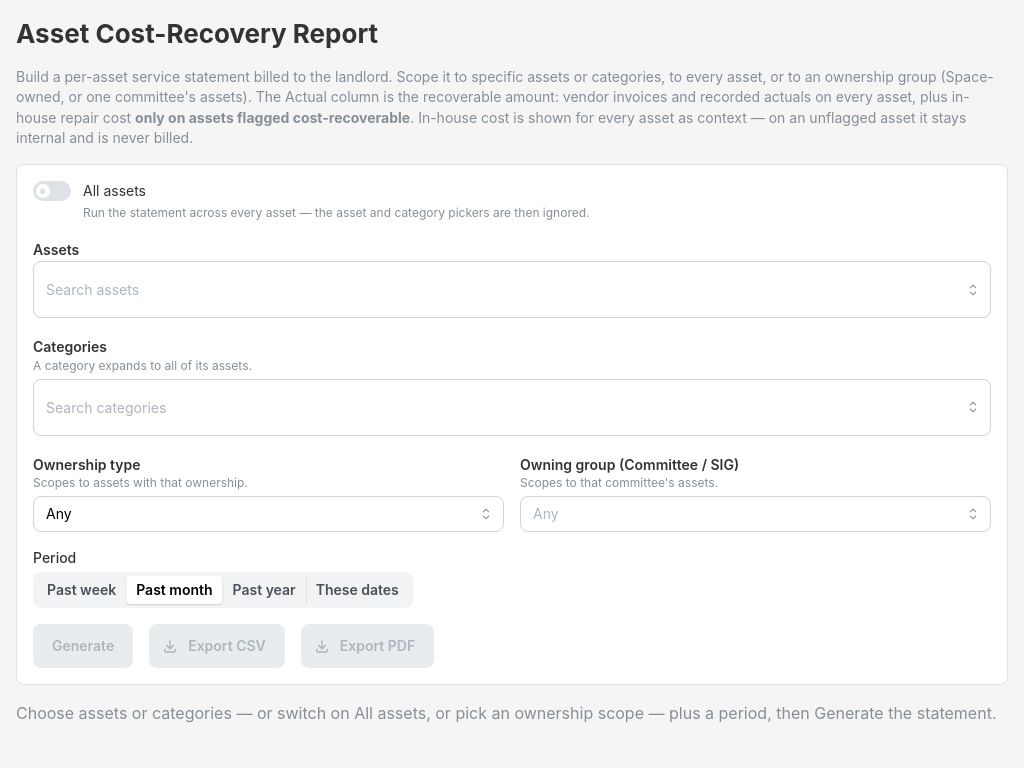
AssetCostRecoveryPage › All assets disables the asset + category pickers
Check: the dropdown with placeholder "Search assets" is enabled, box [46, 268, 956, 312]
Click the switch with test id "cost-recovery-all-assets": [52, 191] box [33, 181, 590, 220]
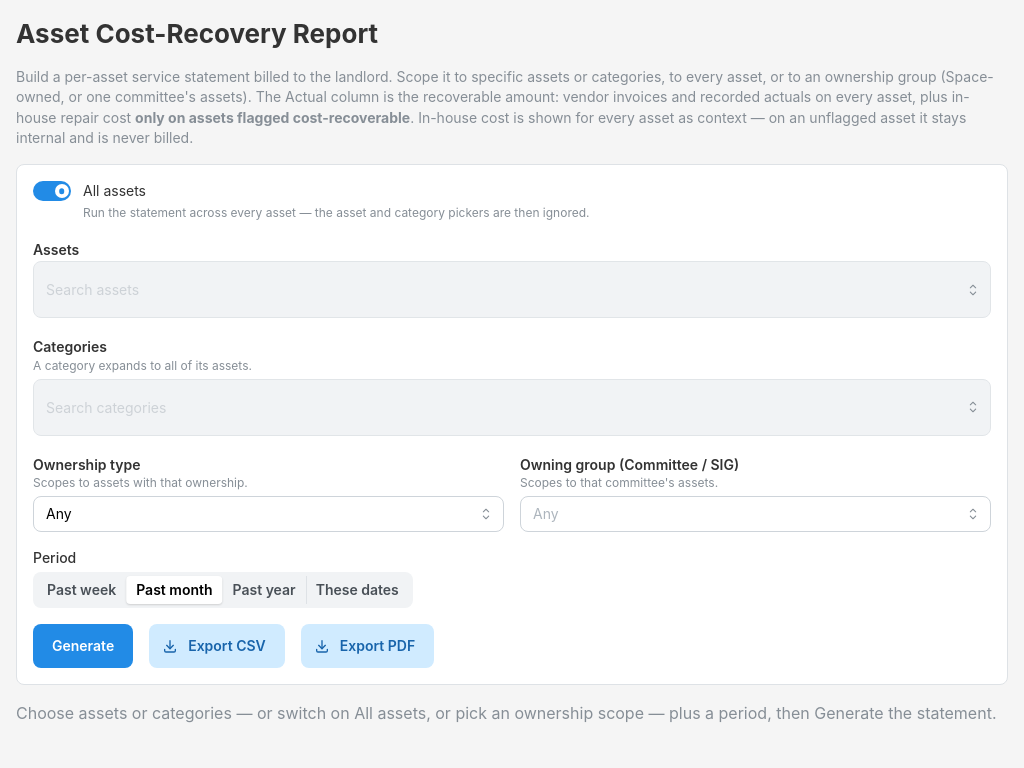
Check: the dropdown with placeholder "Search assets" is disabled, box [46, 268, 956, 312]
Check: the dropdown with placeholder "Search categories" is disabled, box [46, 385, 956, 429]
